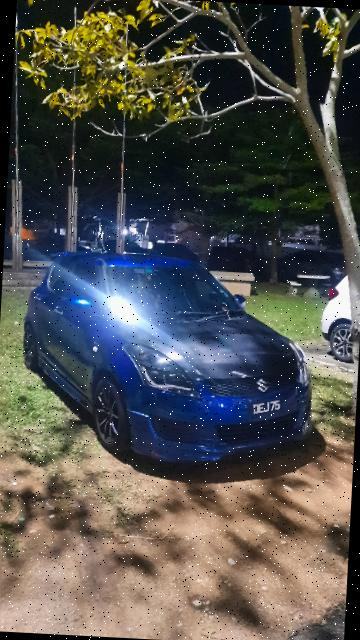License_Plate: (246, 396, 283, 418)
car: (16, 242, 326, 477)
